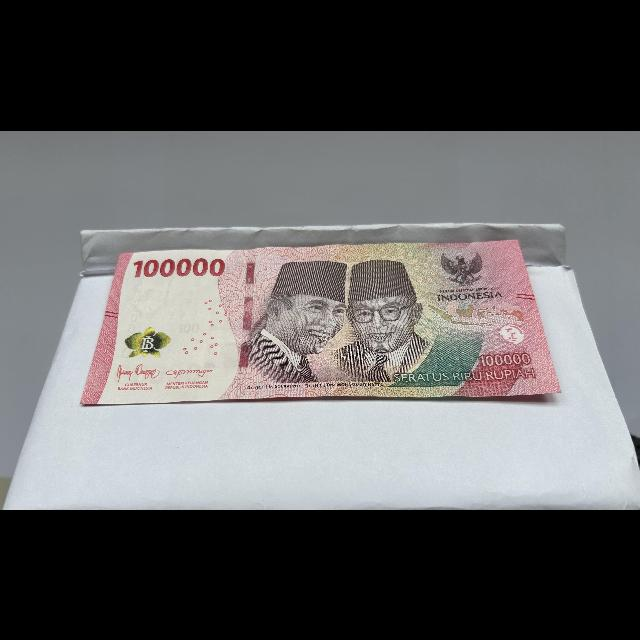Asli-100k: (73, 234, 566, 405)
Tinta-Asli-100k: (120, 324, 174, 359)
